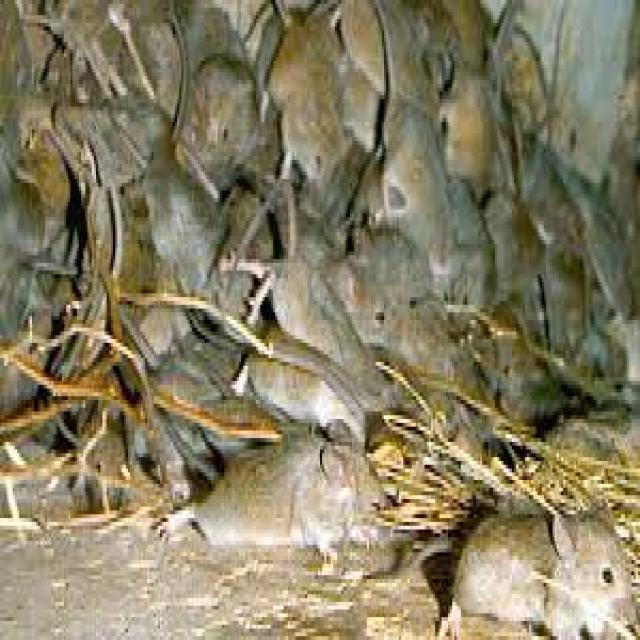Mouse: (156, 426, 382, 551), (436, 512, 640, 640)
